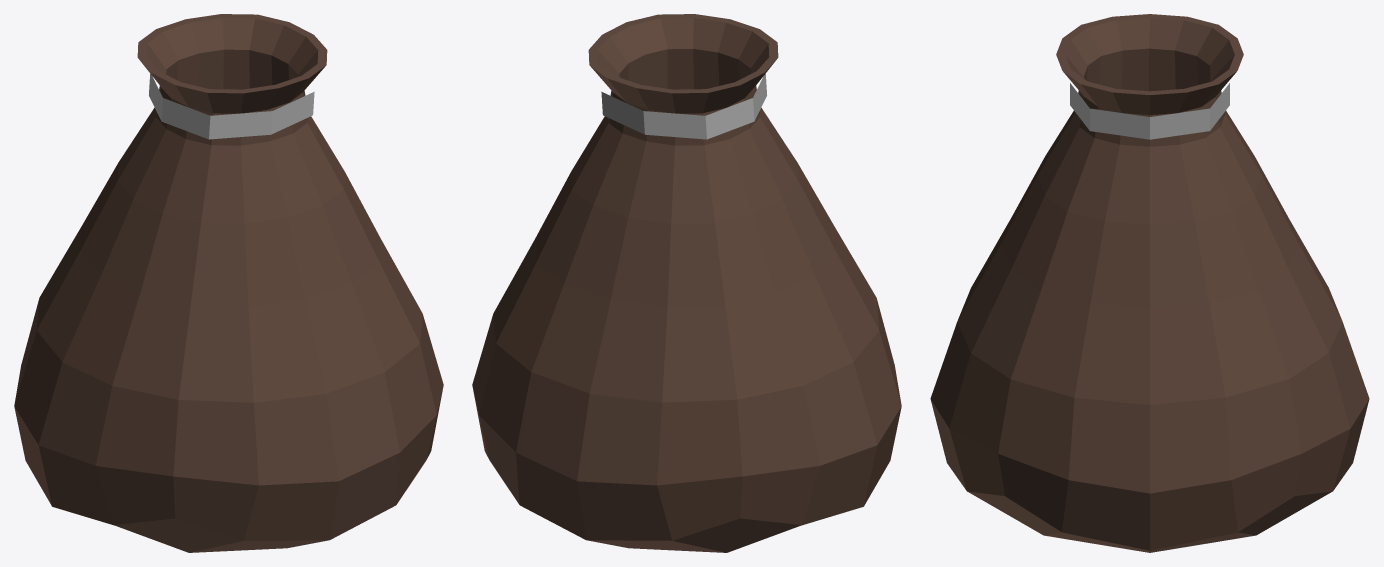
The model's file is Pouch.glb.
3 renders of one model, left to right at view 1: azimuth 30°, elevation 25°; view 2: azimuth 150°, elevation 25°; view 3: azimuth 270°, elevation 25°, orthographic.
Parts seen in each view (by area): view 1: Bag_Cube.026; view 2: Bag_Cube.026; view 3: Bag_Cube.026.
Part boxes in pixels (x1,y1,x2,y2): Bag_Cube.026: (14,14,443,552); Bag_Cube.026: (472,14,901,552); Bag_Cube.026: (930,14,1369,552).
Bounding box in the file's own units: 0.4704 × 0.5477 × 0.4704.
